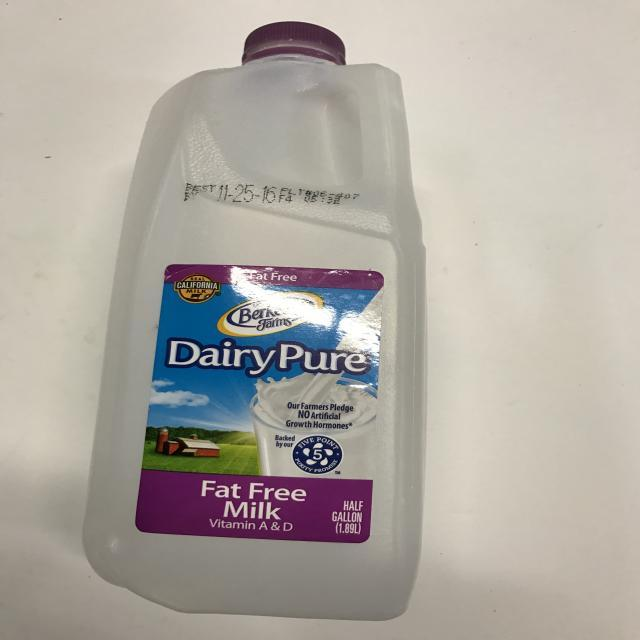plastic: (77, 18, 424, 623)
